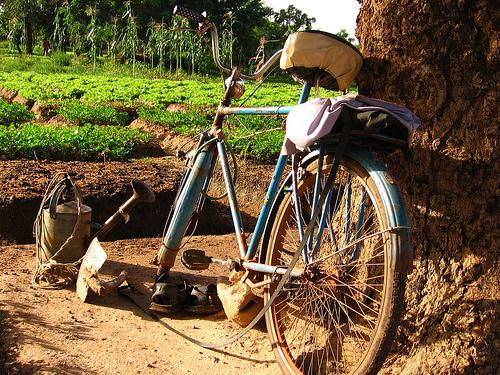car: (159, 5, 417, 375)
